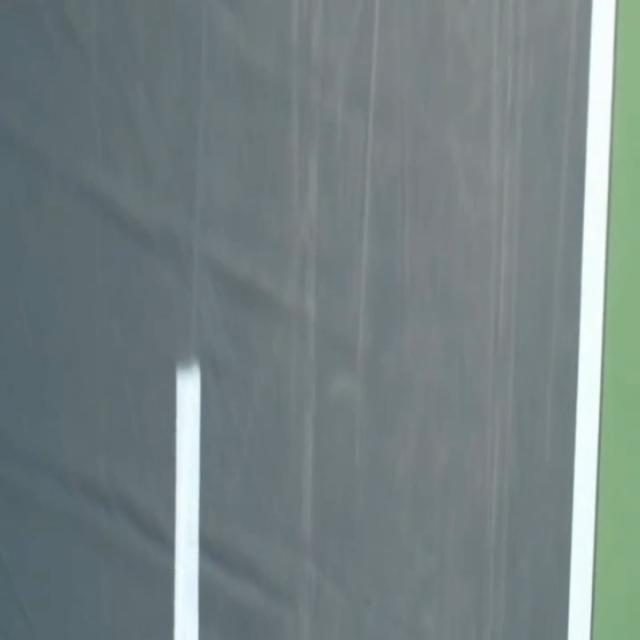center: (173, 362, 201, 639)
right: (567, 0, 615, 639)
